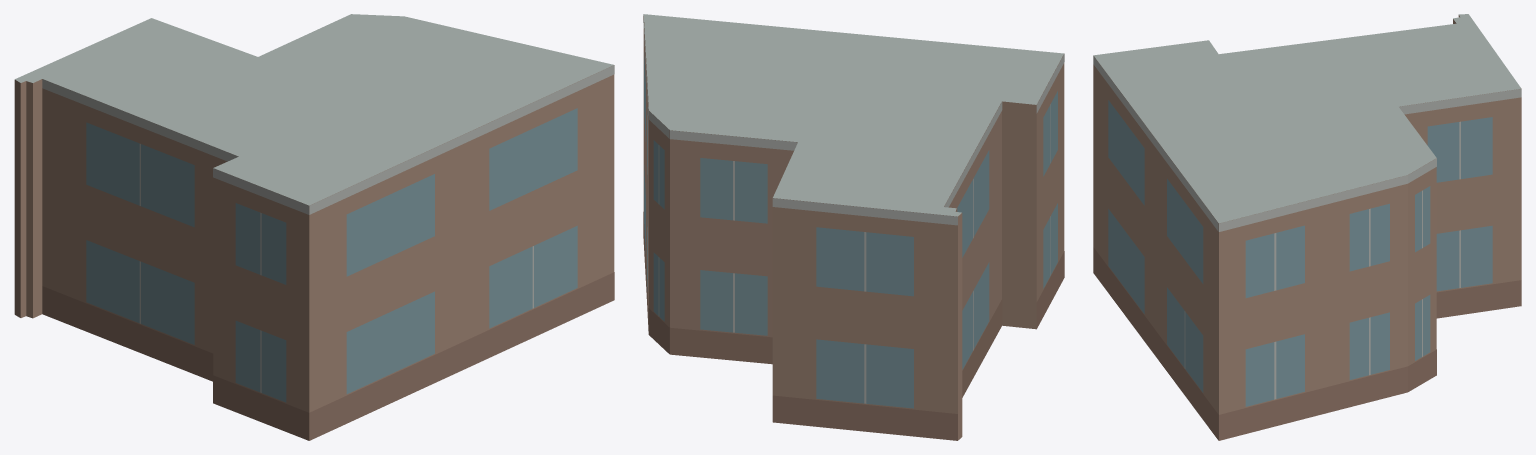
File: survey-upis-32896862.glb
3 views of the same model, side by side, from view 1: azimuth 30°, elevation 25°; view 2: azimuth 150°, elevation 25°; view 3: azimuth 270°, elevation 25° (orthographic). The views are drawn at different scales.
Visible parts, largest first — view 1: survey-upis-32896862.tmp; view 2: survey-upis-32896862.tmp; view 3: survey-upis-32896862.tmp.
Boxes of the visible parts, bbox=[...] form: survey-upis-32896862.tmp: bbox=[14, 14, 614, 440]; survey-upis-32896862.tmp: bbox=[643, 14, 1064, 440]; survey-upis-32896862.tmp: bbox=[1093, 14, 1521, 440].
Bounding box in the file's own units: 12.62 × 6.1 × 10.9.
